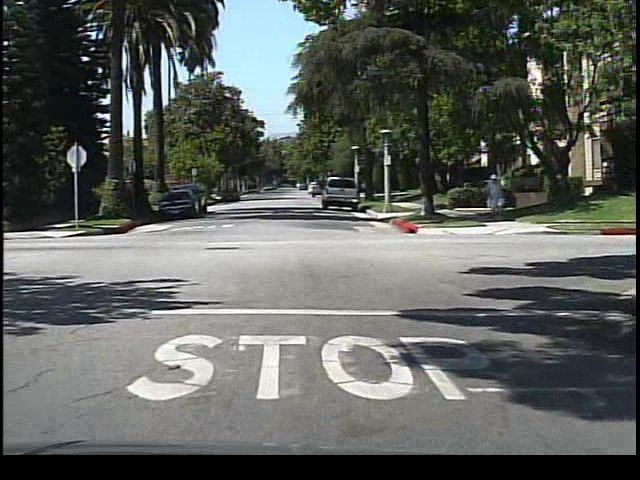person: (484, 169, 508, 222)
